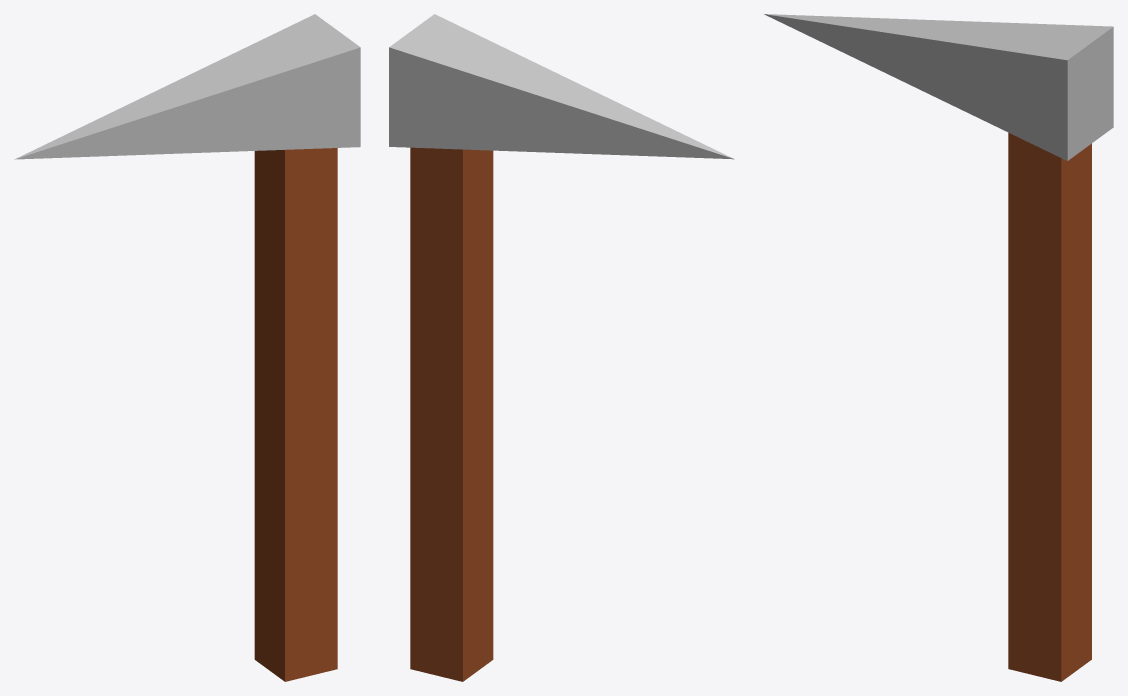
The model's file is Scythe.obj.
3 views of the same model, side by side, from view 1: azimuth 30°, elevation 25°; view 2: azimuth 150°, elevation 25°; view 3: azimuth 330°, elevation 25° (orthographic).
Visible parts, largest first — view 1: Cube_Cube.013, Cube.001_Cube.014; view 2: Cube_Cube.013, Cube.001_Cube.014; view 3: Cube_Cube.013, Cube.001_Cube.014.
Part boxes in pixels (x1=…): Cube_Cube.013: x1=254, y1=148, x2=337, y2=681; Cube.001_Cube.014: x1=14, y1=14, x2=360, y2=159; Cube_Cube.013: x1=410, y1=147, x2=493, y2=681; Cube.001_Cube.014: x1=389, y1=14, x2=734, y2=159; Cube_Cube.013: x1=1008, y1=132, x2=1091, y2=681; Cube.001_Cube.014: x1=764, y1=14, x2=1113, y2=160.
Bounding box in the file's own units: 1.23 × 2.27 × 0.301.
